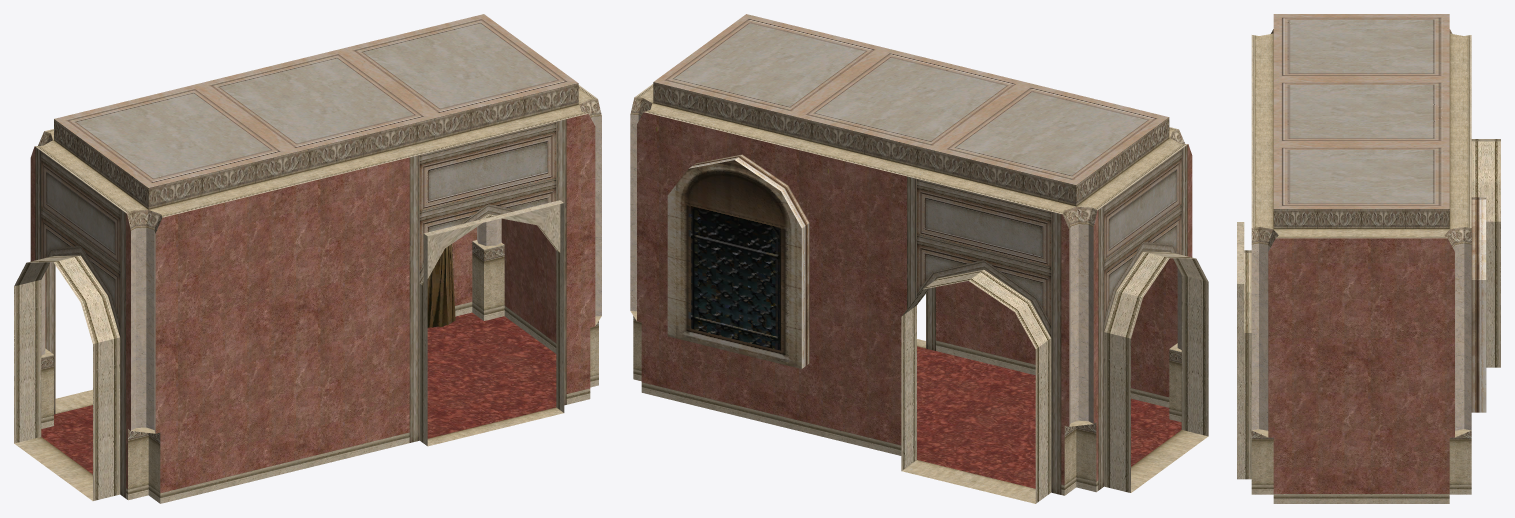
The model's file is ply_nboo_house_lg_s01_fp1_r2_hall1_mesh_r2.fbx.
3 renders of one model, left to right at view 1: azimuth 30°, elevation 25°; view 2: azimuth 150°, elevation 25°; view 3: azimuth 270°, elevation 25°, orthographic. The views are drawn at different scales.
Parts seen in each view (by area): view 1: mesh_node; view 2: mesh_node; view 3: mesh_node.
Boxes of the visible parts, x1,y1,x2,y2 form: mesh_node: [14, 14, 601, 503]; mesh_node: [630, 14, 1208, 503]; mesh_node: [1237, 14, 1500, 503].
Size of the model in its own units: 7.3 by 4.3 by 3.6.
